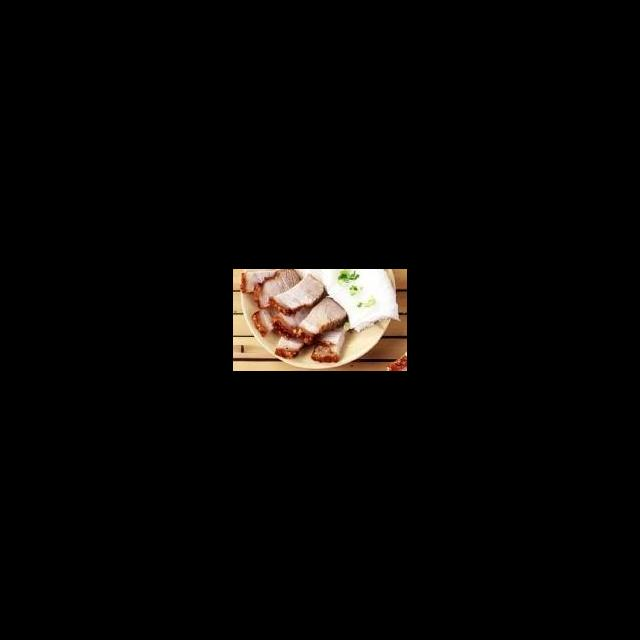banh hoi: (317, 270, 402, 334)
banh hoi heo quay: (239, 275, 402, 368), (236, 275, 398, 363)
thit heo quay: (290, 292, 349, 347), (265, 271, 328, 317), (306, 317, 354, 365), (251, 270, 304, 311), (250, 301, 287, 339), (238, 270, 288, 296), (270, 329, 310, 359)
